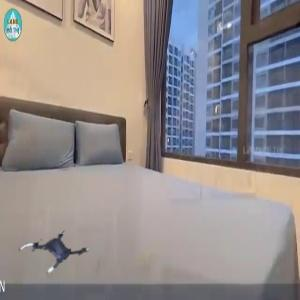drone: (21, 222, 84, 285)
